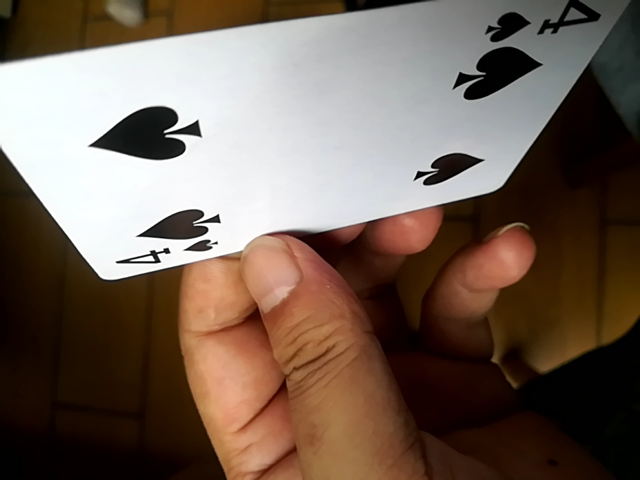ht 4: (2, 9, 627, 281)
